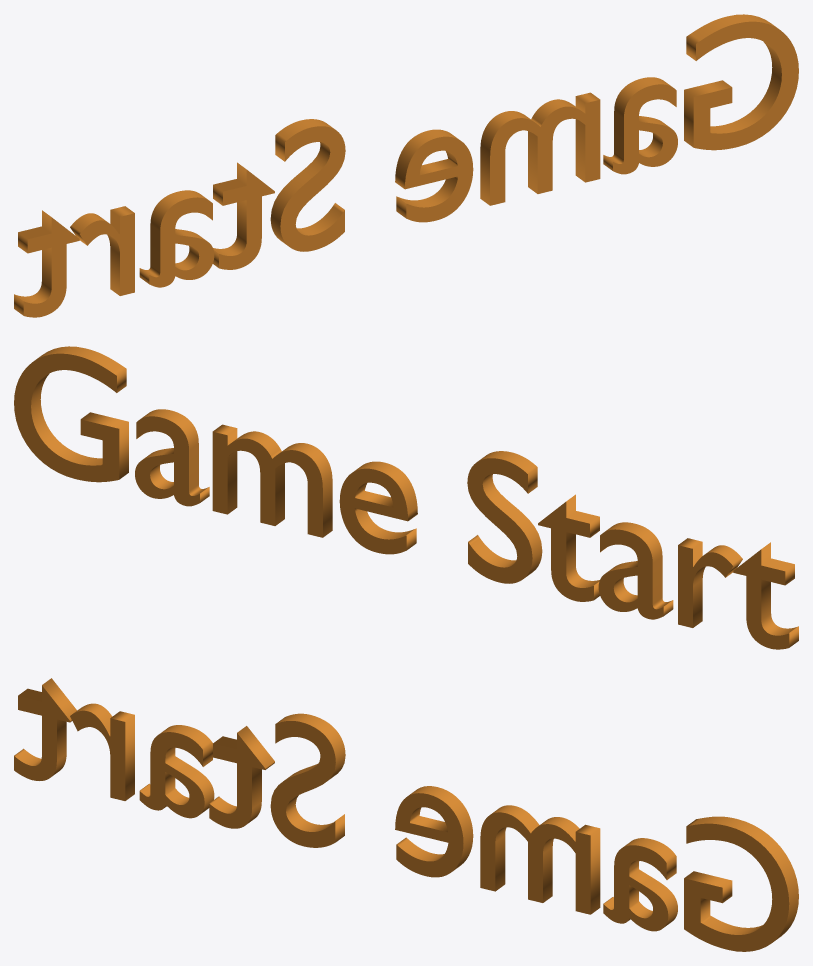
Rendered from GameStart_selected.glb.
3 renders of one model, top to bottom at view 1: azimuth 30°, elevation 25°; view 2: azimuth 150°, elevation 25°; view 3: azimuth 330°, elevation 25°, orthographic.
Parts seen in each view (by area): view 1: テキスト; view 2: テキスト; view 3: テキスト.
Boxes of the visible parts, <box> form: テキスト: <box>14,14,798,317</box>; テキスト: <box>14,346,798,649</box>; テキスト: <box>14,678,798,951</box>.
Size of the model in its own units: 4.59 by 0.7 by 0.1.
